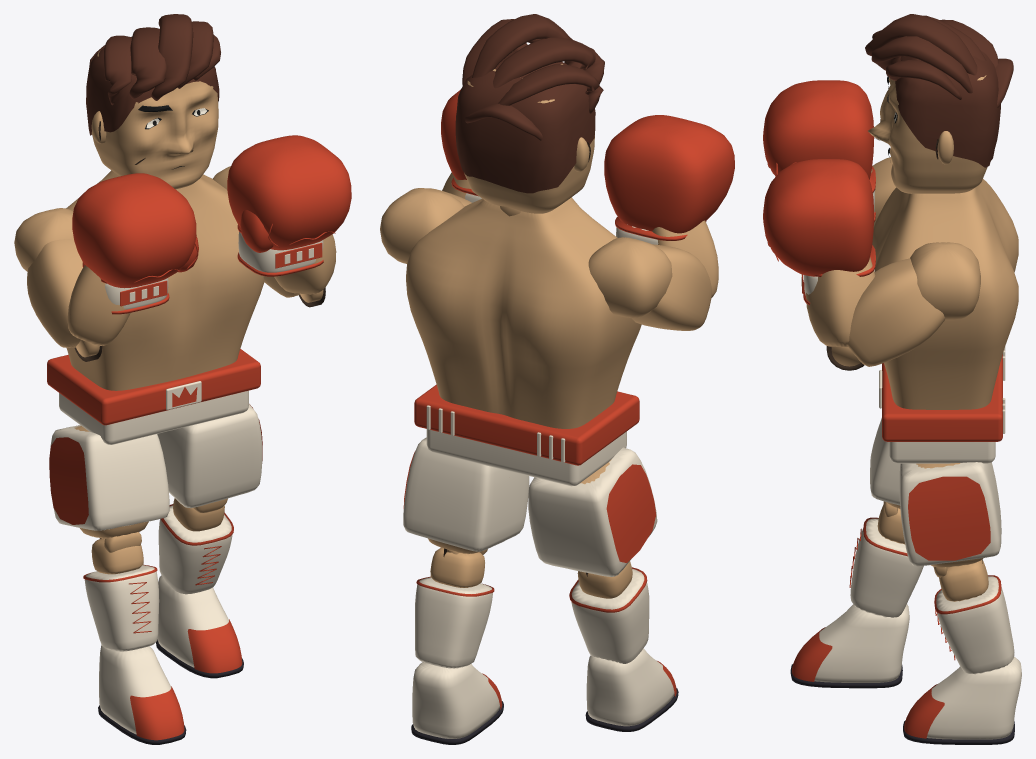
The model's file is rival.glb.
3 renders of one model, left to right at view 1: azimuth 30°, elevation 25°; view 2: azimuth 150°, elevation 25°; view 3: azimuth 270°, elevation 25°, orthographic. The views are drawn at different scales.
Visible parts, largest first — view 1: Mould assembly Body.001 Rival warm tan plastic, Mould assembly GloveR.001 Scarlet boxing leather, Mould assembly GloveL.001 Scarlet boxing leather, Mould assembly Head.001 Chestnut quiff, Mould assembly Head.001 Rival warm tan plastic, Mould assembly LegUpperR.001 Cream trunks and boots, Mould assembly LegUpperL.001 Cream trunks and boots, Mould assembly Hips.001 Scarlet boxing leather, Mould assembly LegLowerL.001 Cream trunks and boots, Mould assembly Hips.001 Cream trunks and boots, Mould assembly LegLowerR.001 Cream trunks and boots, Mould assembly ArmUpperL.001 Rival warm tan plastic (+14 smaller); view 2: Mould assembly Body.001 Rival warm tan plastic, Mould assembly Head.001 Chestnut quiff, Mould assembly GloveL.001 Scarlet boxing leather, Mould assembly LegUpperR.001 Cream trunks and boots, Mould assembly LegUpperL.001 Cream trunks and boots, Mould assembly Hips.001 Scarlet boxing leather, Mould assembly LegLowerR.001 Cream trunks and boots, Mould assembly FootR.001 Cream trunks and boots, Mould assembly FootL.001 Cream trunks and boots, Mould assembly Hips.001 Cream trunks and boots, Mould assembly LegLowerL.001 Cream trunks and boots, Mould assembly ArmUpperL.001 Rival warm tan plastic (+8 smaller); view 3: Mould assembly Body.001 Rival warm tan plastic, Mould assembly Head.001 Chestnut quiff, Mould assembly GloveR.001 Scarlet boxing leather, Mould assembly GloveL.001 Scarlet boxing leather, Mould assembly ArmUpperR.001 Rival warm tan plastic, Mould assembly LegUpperR.001 Scarlet boxing leather, Mould assembly FootR.001 Cream trunks and boots, Mould assembly FootL.001 Cream trunks and boots, Mould assembly Head.001 Rival warm tan plastic, Mould assembly LegLowerR.001 Cream trunks and boots, Mould assembly Hips.001 Scarlet boxing leather, Mould assembly LegLowerL.001 Cream trunks and boots (+12 smaller).
Part boxes in pixels (<box>): Mould assembly Body.001 Rival warm tan plastic: <box>14,166,264,390</box>; Mould assembly GloveR.001 Scarlet boxing leather: <box>227,135,351,276</box>; Mould assembly GloveL.001 Scarlet boxing leather: <box>72,173,198,314</box>; Mould assembly Head.001 Chestnut quiff: <box>86,14,220,135</box>; Mould assembly Head.001 Rival warm tan plastic: <box>91,50,218,189</box>; Mould assembly LegUpperR.001 Cream trunks and boots: <box>157,404,262,508</box>; Mould assembly LegUpperL.001 Cream trunks and boots: <box>50,425,169,530</box>; Mould assembly Hips.001 Scarlet boxing leather: <box>47,349,260,425</box>; Mould assembly LegLowerL.001 Cream trunks and boots: <box>84,565,159,651</box>; Mould assembly Hips.001 Cream trunks and boots: <box>59,356,248,444</box>; Mould assembly LegLowerR.001 Cream trunks and boots: <box>158,505,232,594</box>; Mould assembly ArmUpperL.001 Rival warm tan plastic: <box>27,239,82,347</box>; Mould assembly Body.001 Rival warm tan plastic: <box>380,188,672,428</box>; Mould assembly Head.001 Chestnut quiff: <box>455,14,604,193</box>; Mould assembly GloveL.001 Scarlet boxing leather: <box>604,115,734,240</box>; Mould assembly LegUpperR.001 Cream trunks and boots: <box>403,437,529,551</box>; Mould assembly LegUpperL.001 Cream trunks and boots: <box>528,447,657,576</box>; Mould assembly Hips.001 Scarlet boxing leather: <box>414,384,639,465</box>; Mould assembly LegLowerR.001 Cream trunks and boots: <box>415,577,492,668</box>; Mould assembly FootR.001 Cream trunks and boots: <box>412,662,499,738</box>; Mould assembly FootL.001 Cream trunks and boots: <box>586,648,674,726</box>; Mould assembly Hips.001 Cream trunks and boots: <box>426,405,626,486</box>; Mould assembly LegLowerL.001 Cream trunks and boots: <box>571,568,649,663</box>; Mould assembly ArmUpperL.001 Rival warm tan plastic: <box>632,244,711,330</box>; Mould assembly Body.001 Rival warm tan plastic: <box>872,179,1018,409</box>; Mould assembly Head.001 Chestnut quiff: <box>865,14,1013,167</box>; Mould assembly GloveR.001 Scarlet boxing leather: <box>763,159,875,305</box>; Mould assembly GloveL.001 Scarlet boxing leather: <box>763,80,875,222</box>; Mould assembly ArmUpperR.001 Rival warm tan plastic: <box>847,258,945,366</box>; Mould assembly LegUpperR.001 Scarlet boxing leather: <box>908,476,990,560</box>; Mould assembly FootR.001 Cream trunks and boots: <box>926,656,1021,739</box>; Mould assembly FootL.001 Cream trunks and boots: <box>814,604,909,682</box>; Mould assembly Head.001 Rival warm tan plastic: <box>868,75,987,193</box>; Mould assembly LegLowerR.001 Cream trunks and boots: <box>936,576,1014,674</box>; Mould assembly Hips.001 Scarlet boxing leather: <box>882,354,1002,441</box>; Mould assembly LegLowerL.001 Cream trunks and boots: <box>850,518,923,617</box>.
Bounding box in the file's own units: 1.21 × 2.78 × 0.9456.
